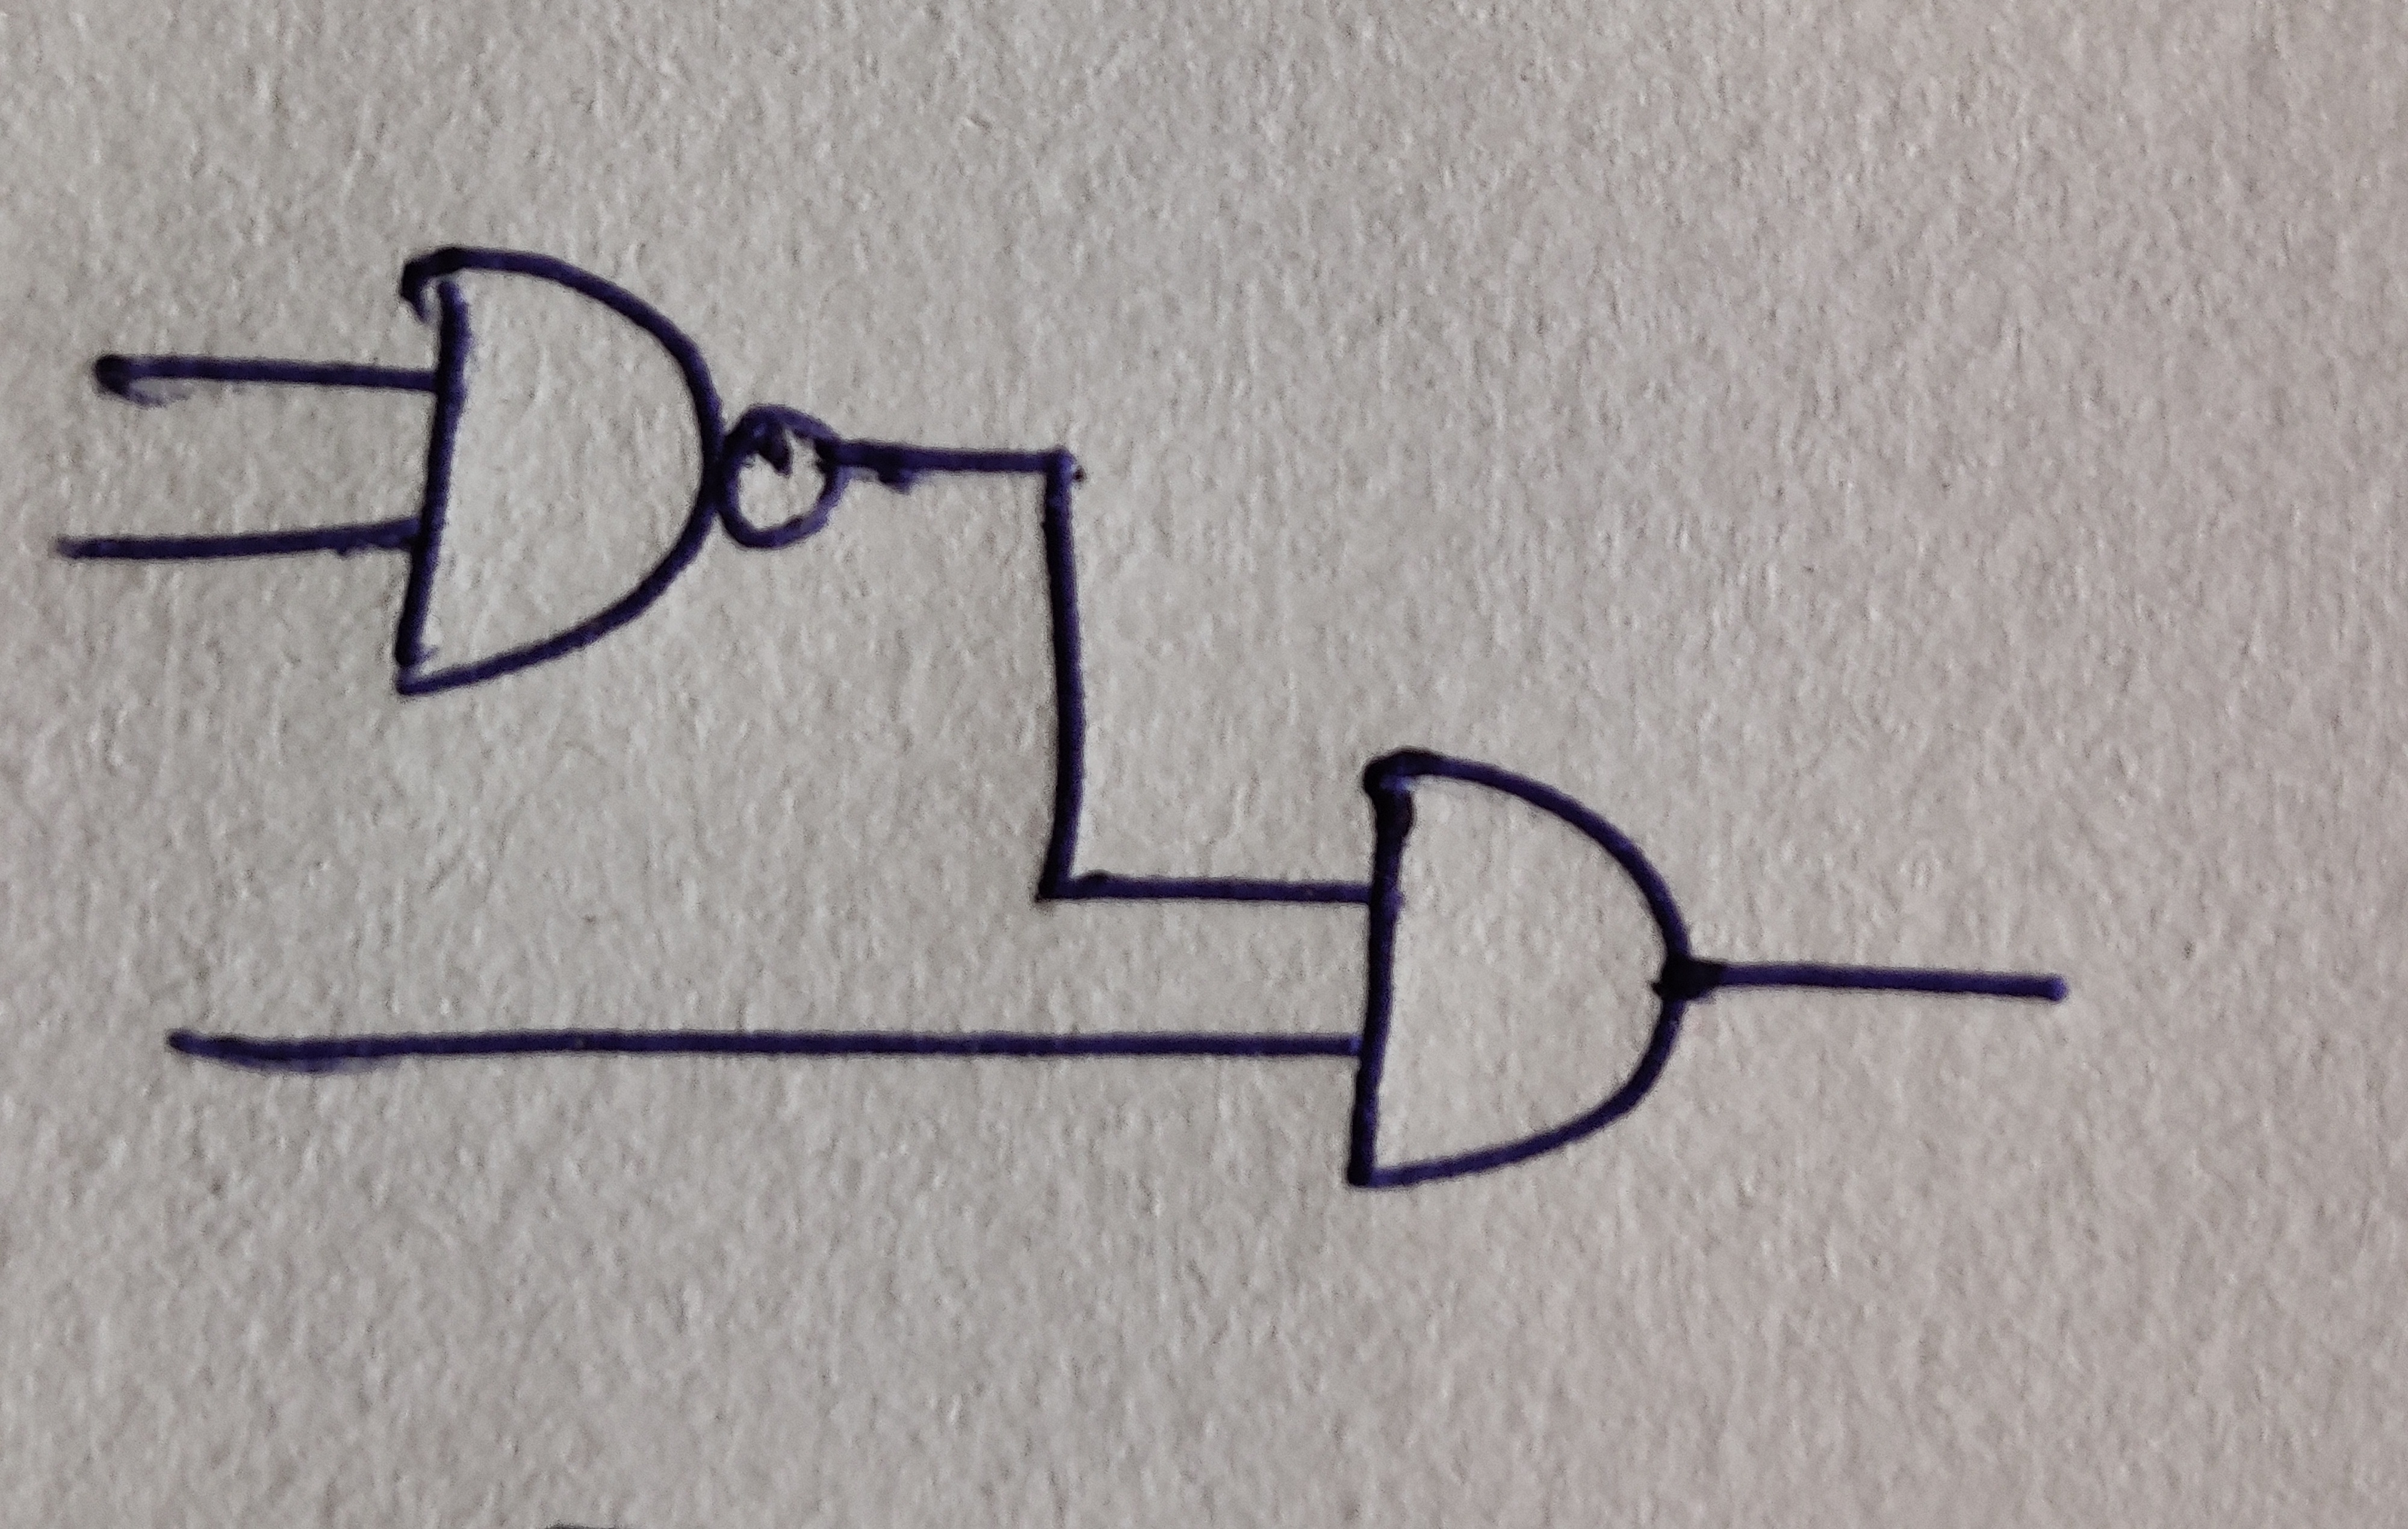and: (1346, 746, 1690, 1194), (397, 246, 721, 697)
not: (720, 402, 848, 548)
